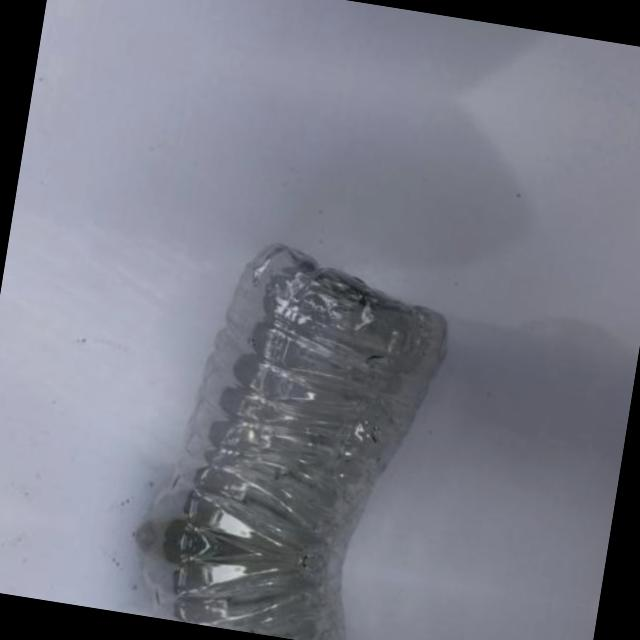Plastic: (135, 210, 475, 580), (122, 533, 423, 640)
